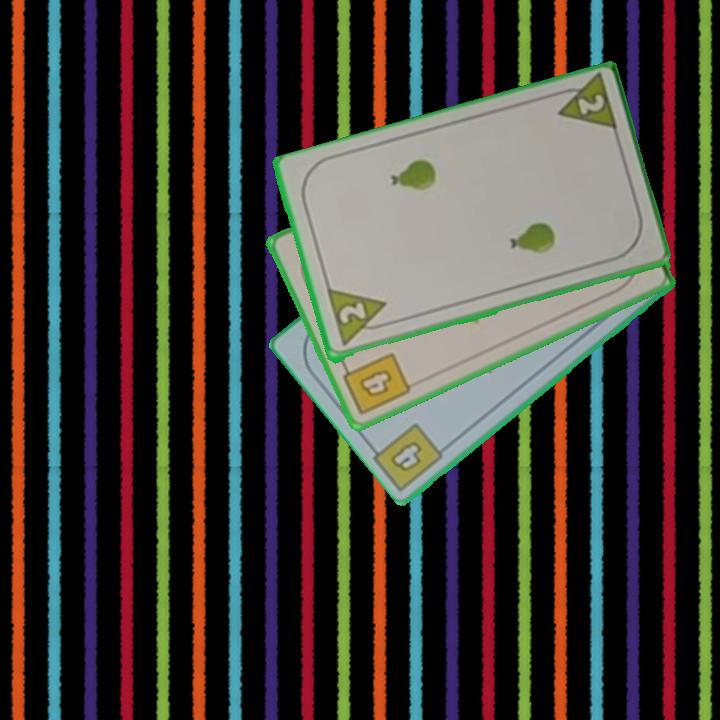2p: (547, 73, 620, 137), (323, 286, 394, 350)
4b: (337, 349, 414, 419), (386, 437, 425, 476)
